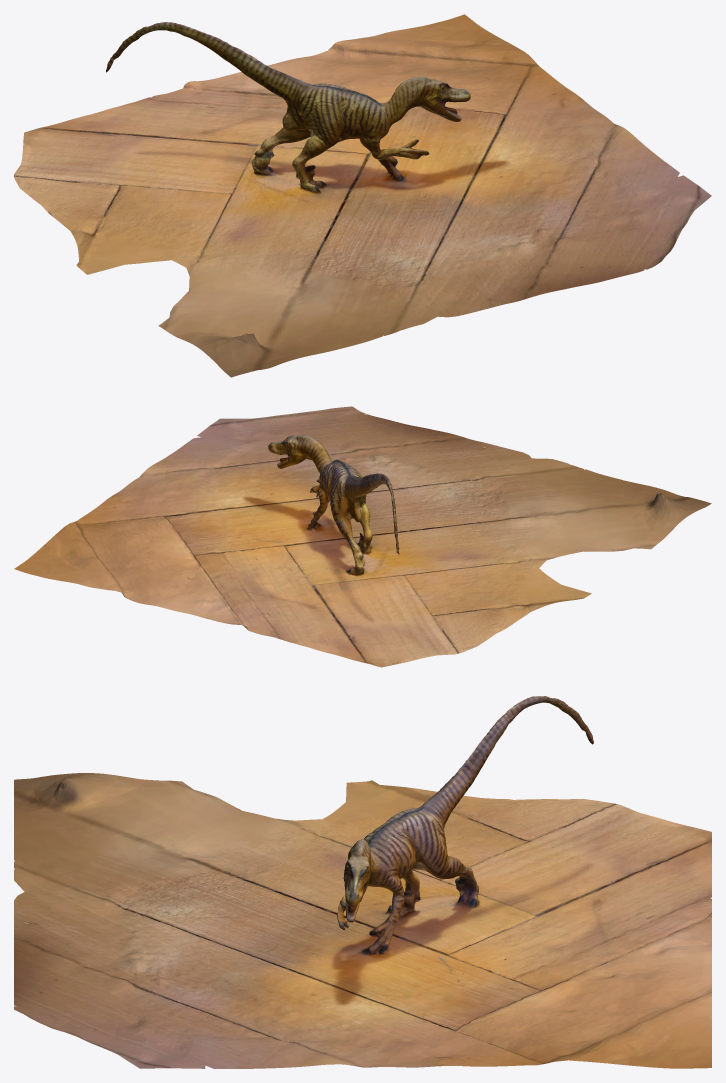
3 renders of one model, top to bottom at view 1: azimuth 30°, elevation 25°; view 2: azimuth 150°, elevation 25°; view 3: azimuth 270°, elevation 25°, orthographic. The views are drawn at different scales.
Size of the model in its own units: 0.4603 by 0.1266 by 0.4495.
1 material, 1 textured.
